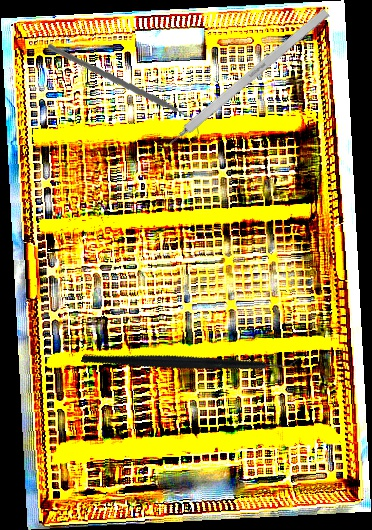Chopper: (80, 278, 305, 439), (47, 31, 200, 148)
Hook Surgical: (149, 7, 331, 162)
